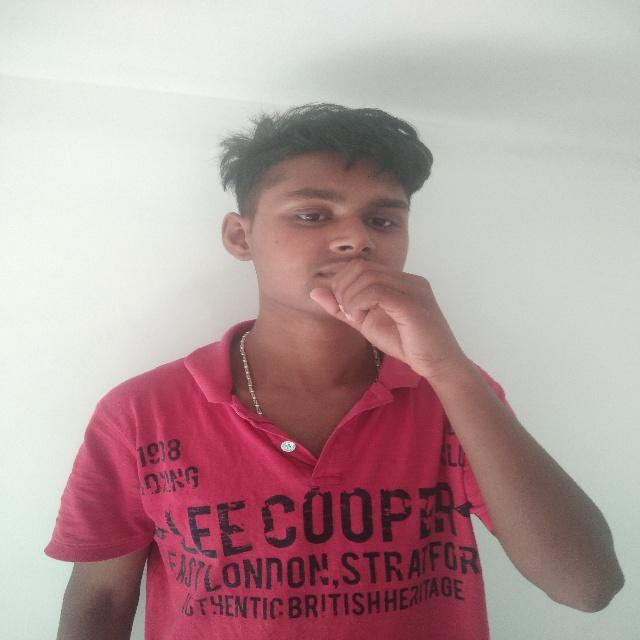Fist Mouth: (201, 90, 483, 394)
